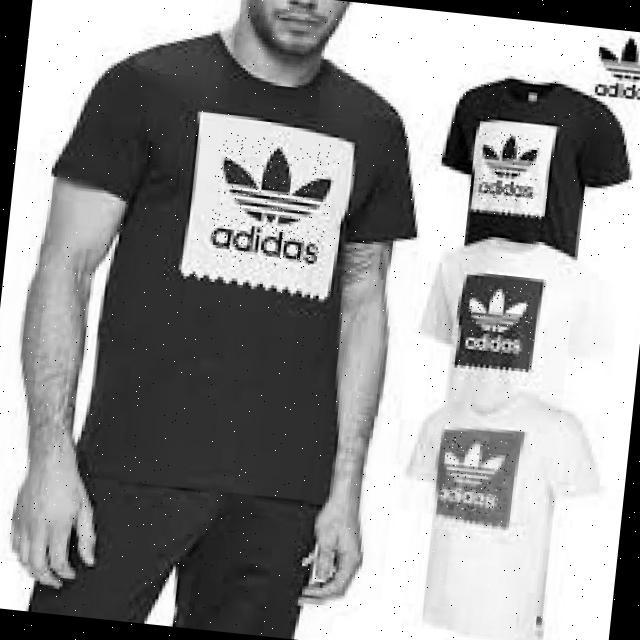Adidas: (206, 133, 332, 270), (437, 431, 510, 515), (463, 283, 539, 360), (476, 131, 542, 208), (588, 29, 640, 114)
